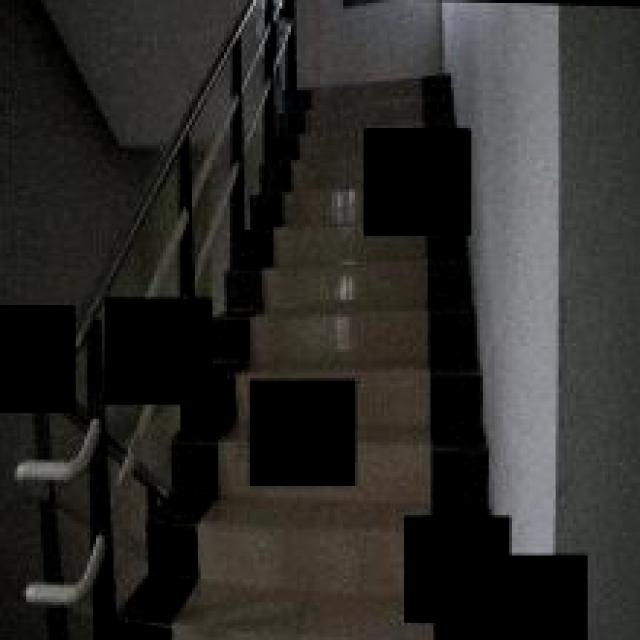upstair: (260, 88, 362, 365)
